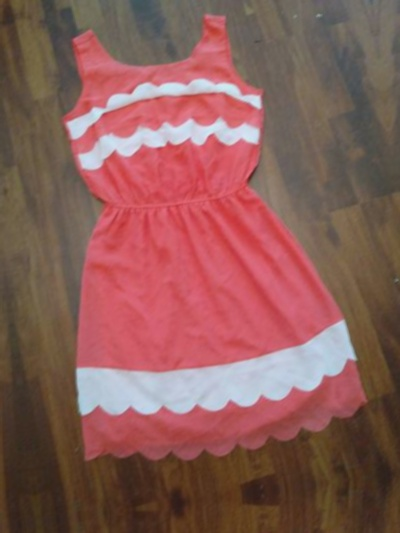Dress: (9, 0, 392, 486), (79, 505, 400, 533)
